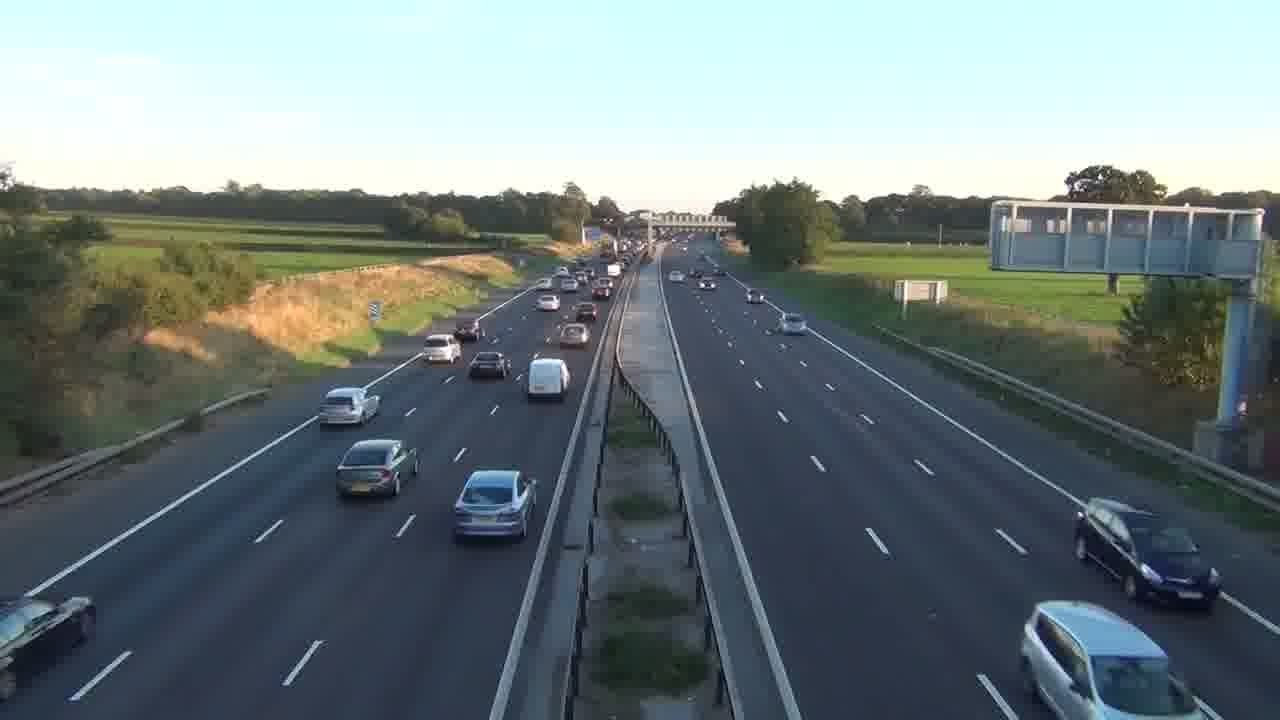car: (452, 467, 537, 542), (335, 437, 419, 498), (318, 385, 382, 427), (468, 351, 512, 381), (537, 293, 560, 311)
truck: (1019, 599, 1219, 719), (1072, 495, 1223, 611), (526, 356, 571, 402)
